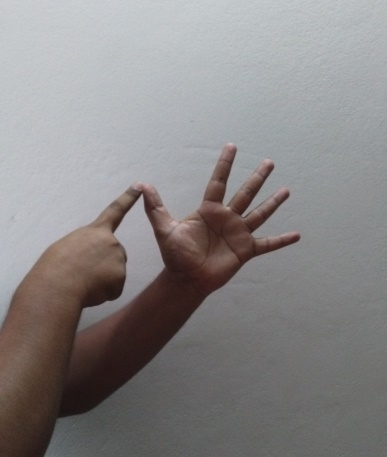a: (88, 141, 301, 297)
